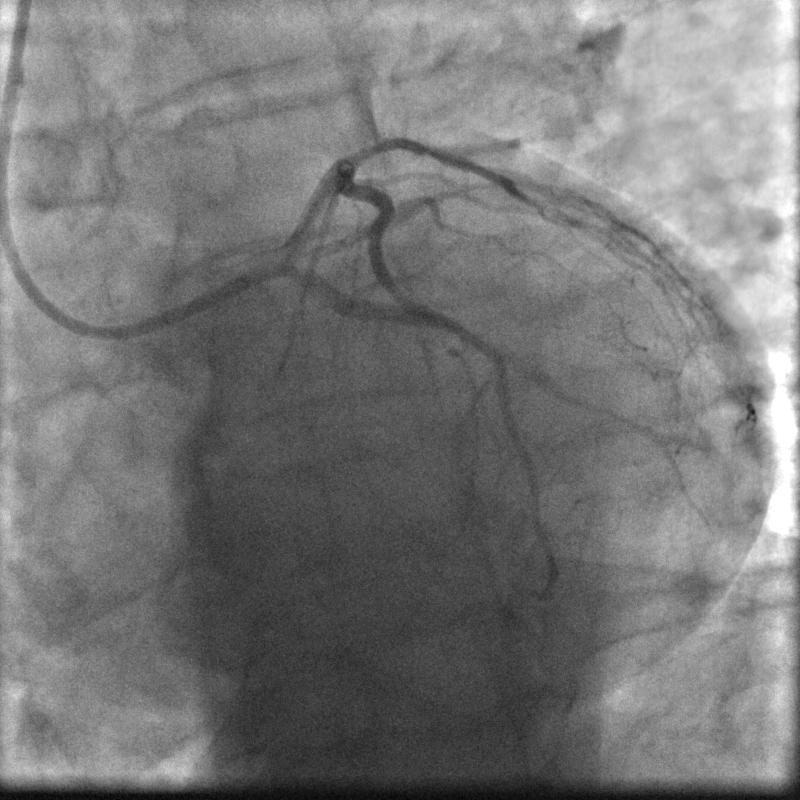Stenosis: (344, 132, 401, 162)
